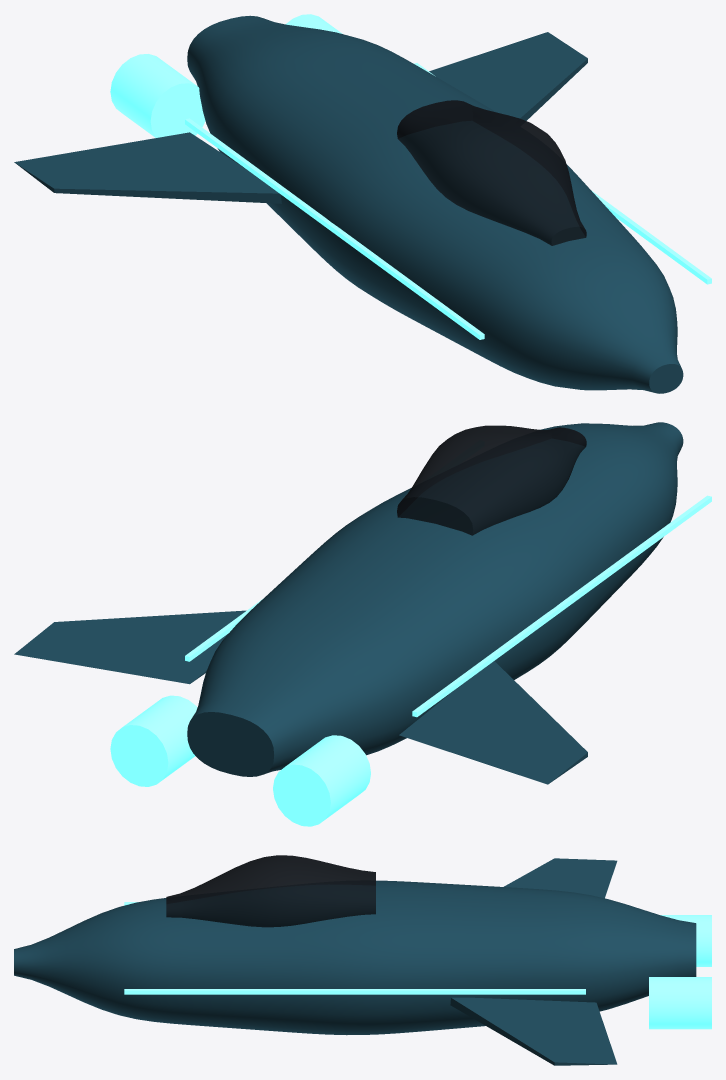
The model's file is hydro-sub-skiff.glb.
The picture shows the model from 3 angles, top to bottom: view 1: azimuth 30°, elevation 25°; view 2: azimuth 150°, elevation 25°; view 3: azimuth 270°, elevation 25°; orthographic projection. The views are drawn at different scales.
Visible parts, largest first — view 1: Body; view 2: Body; view 3: Body.
Part boxes in pixels (bbox=[...]): Body: bbox=[14, 14, 711, 393]; Body: bbox=[14, 422, 711, 826]; Body: bbox=[14, 855, 711, 1065].
Size of the model in its own units: 4.6 by 1.62 by 6.65.
